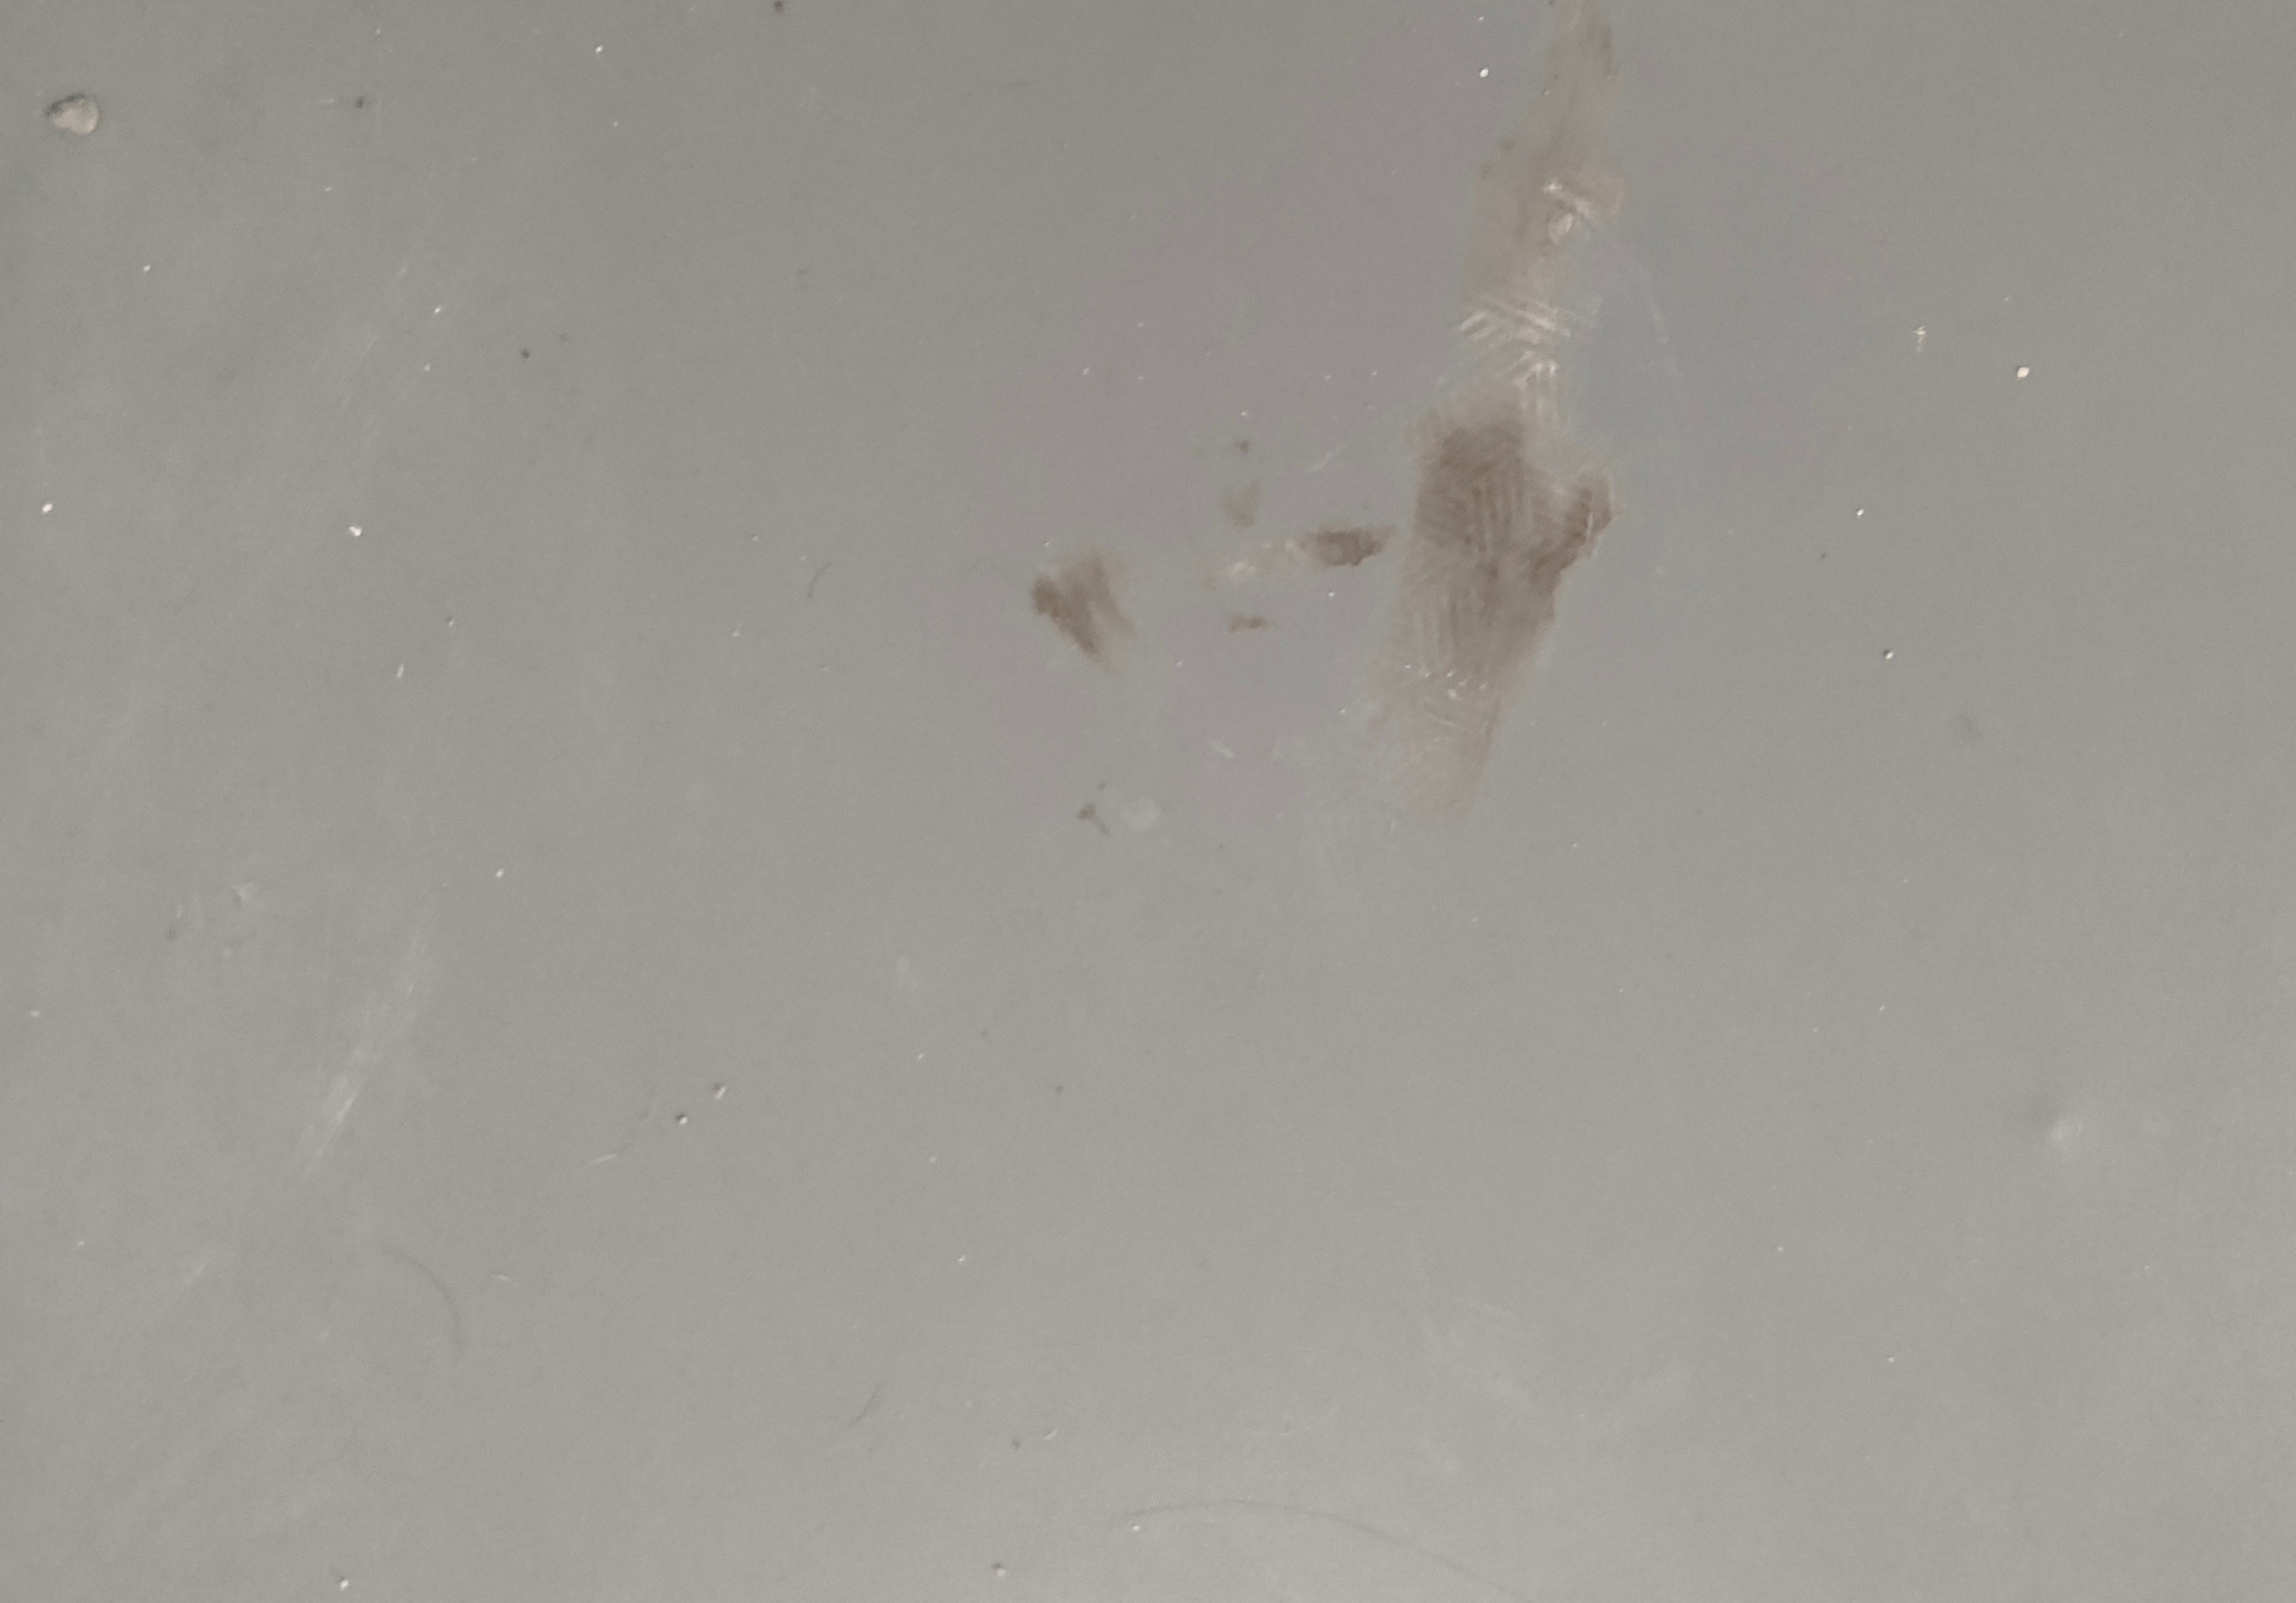grey spot: (1413, 417, 1616, 673), (1028, 562, 1132, 659), (1298, 525, 1384, 570)
